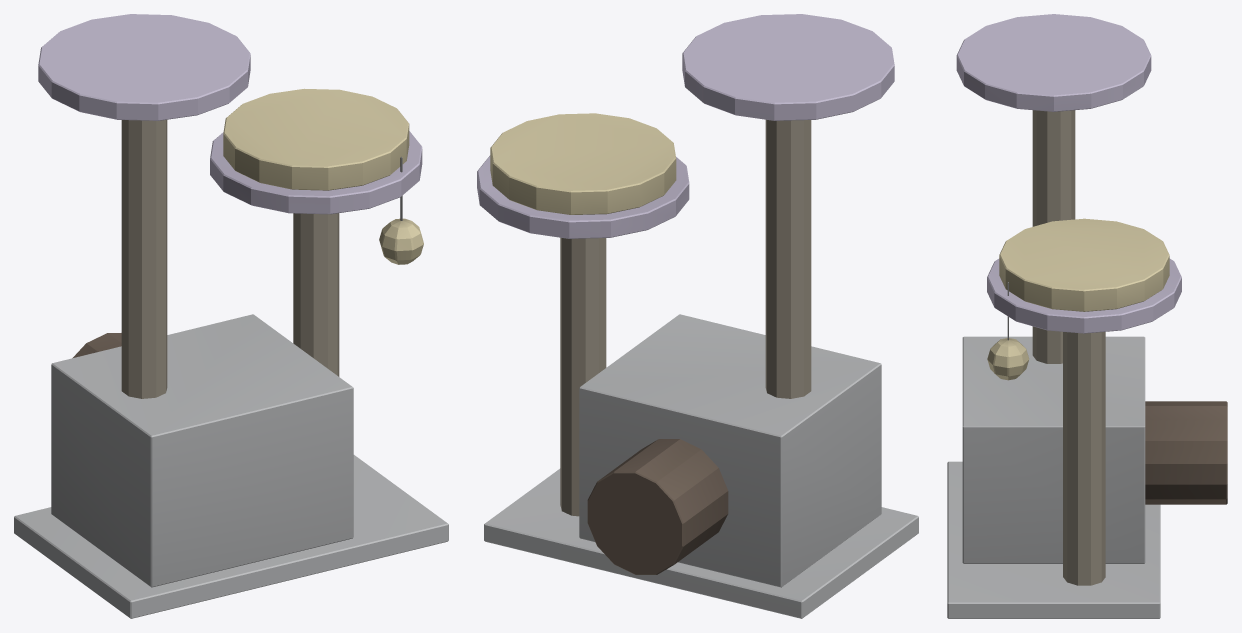
Rendered from petshop_cat_tower__grey.glb.
The picture shows the model from 3 angles, left to right: view 1: azimuth 30°, elevation 25°; view 2: azimuth 150°, elevation 25°; view 3: azimuth 270°, elevation 25°; orthographic projection. The views are drawn at different scales.
Bounding box in the file's own units: 1.29 × 1.65 × 0.92.
